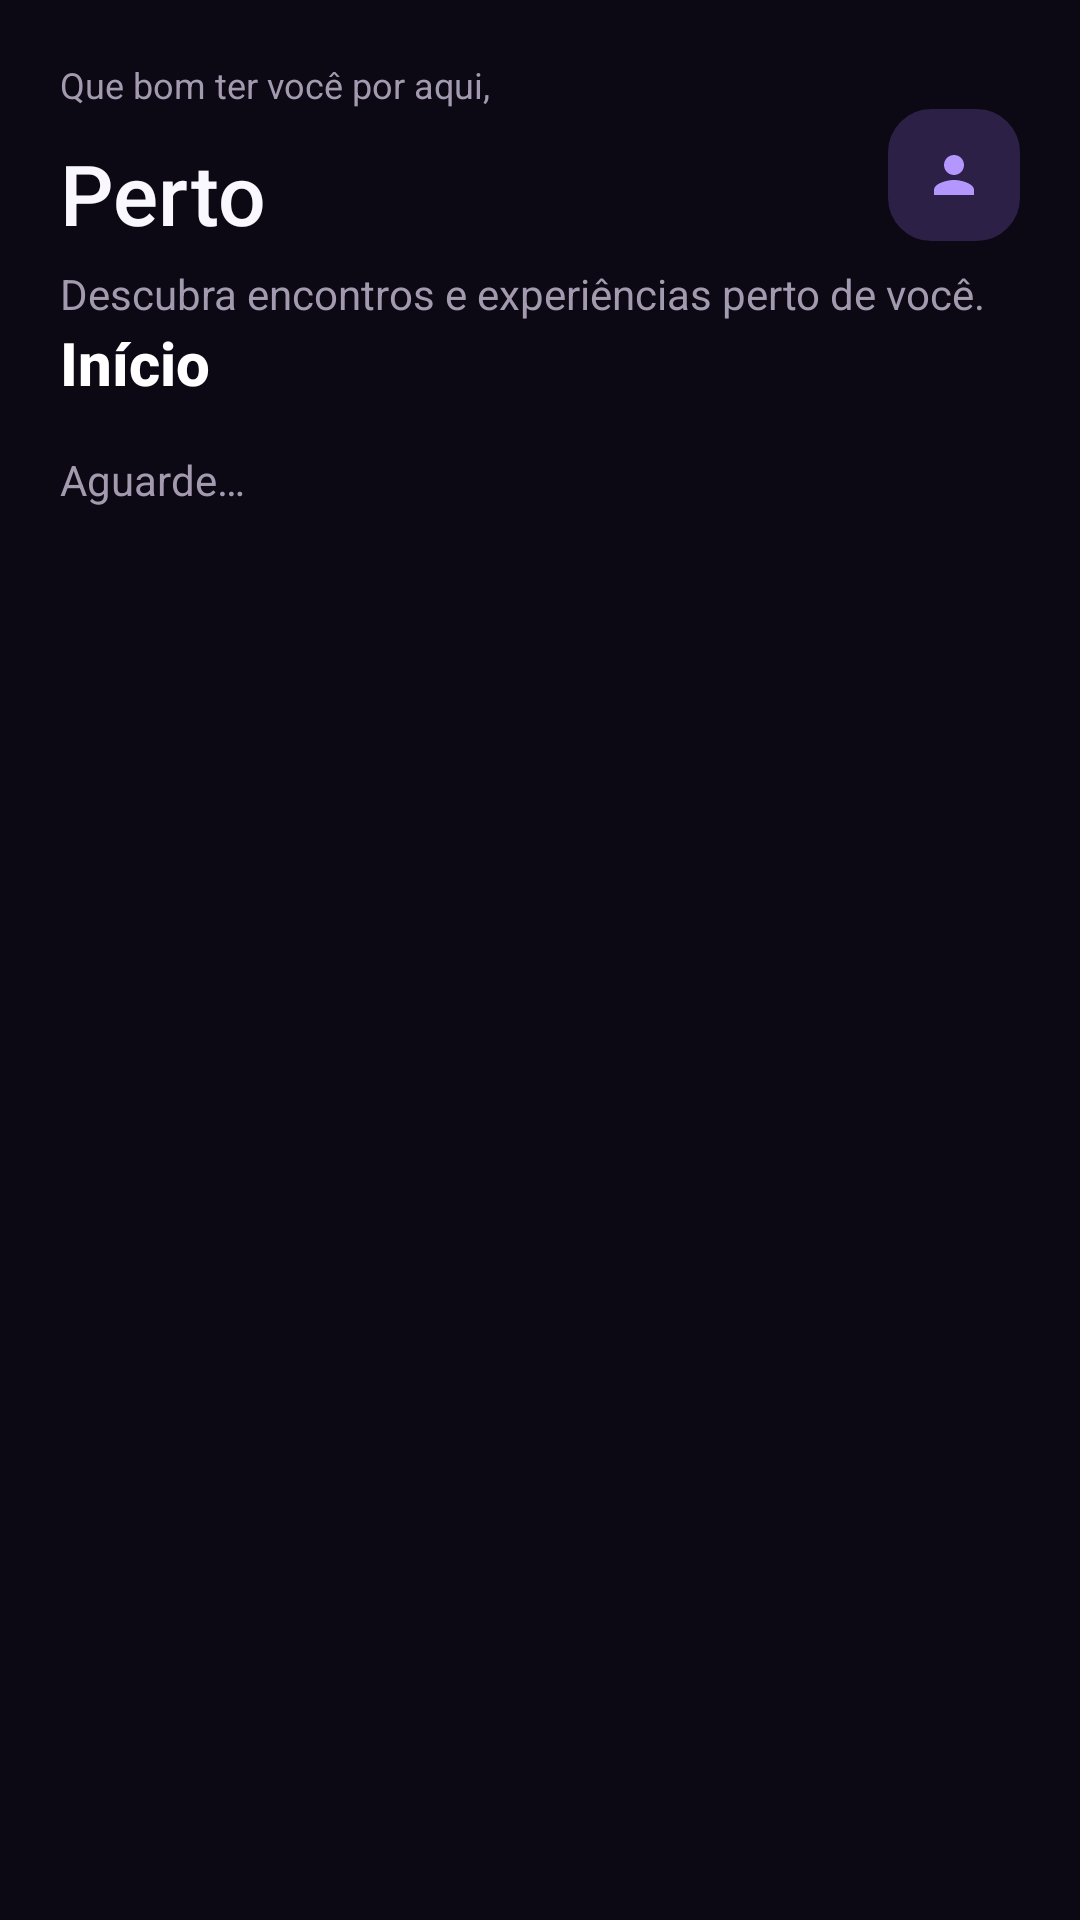

Icons on this 1080 x 1920 Android screen, each with the point to tap as (x=x, y=y):
person: (x=954, y=175)
